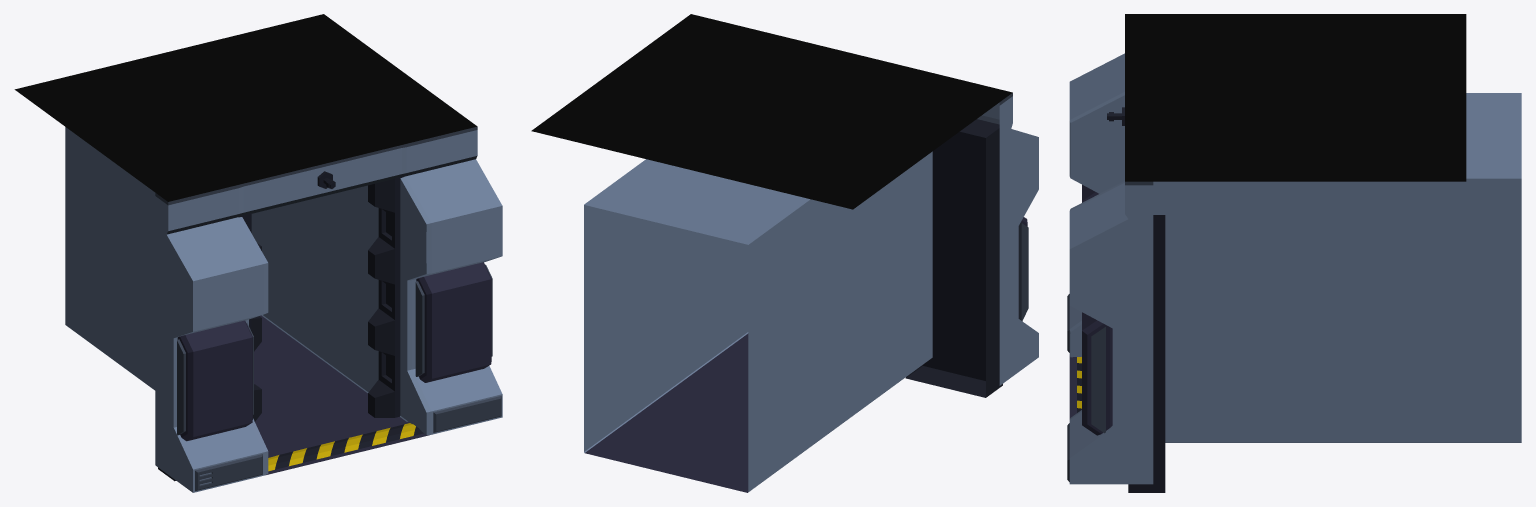
File: WallDoor.fbx
The picture shows the model from 3 angles, left to right: view 1: azimuth 30°, elevation 25°; view 2: azimuth 150°, elevation 25°; view 3: azimuth 270°, elevation 25°; orthographic projection. The views are drawn at different scales.
Visible parts, largest first — view 1: WallDoor; view 2: WallDoor; view 3: WallDoor.
Part boxes in pixels (bbox=[...]): WallDoor: bbox=[14, 14, 502, 492]; WallDoor: bbox=[531, 14, 1038, 492]; WallDoor: bbox=[1067, 14, 1521, 492].
Size of the model in its own units: 400 by 349 by 458.
